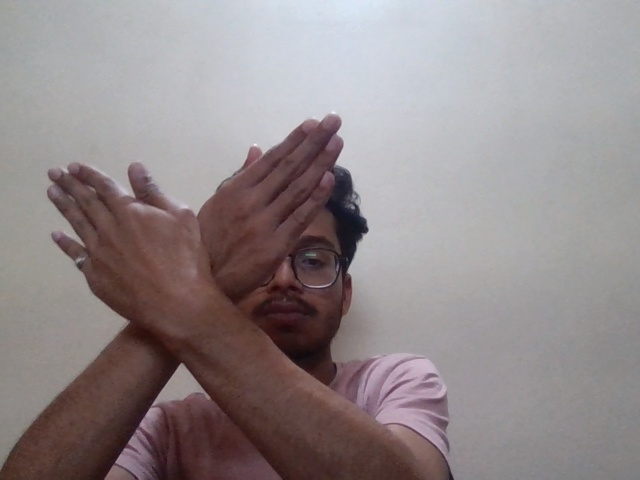feel: (19, 111, 359, 332)
